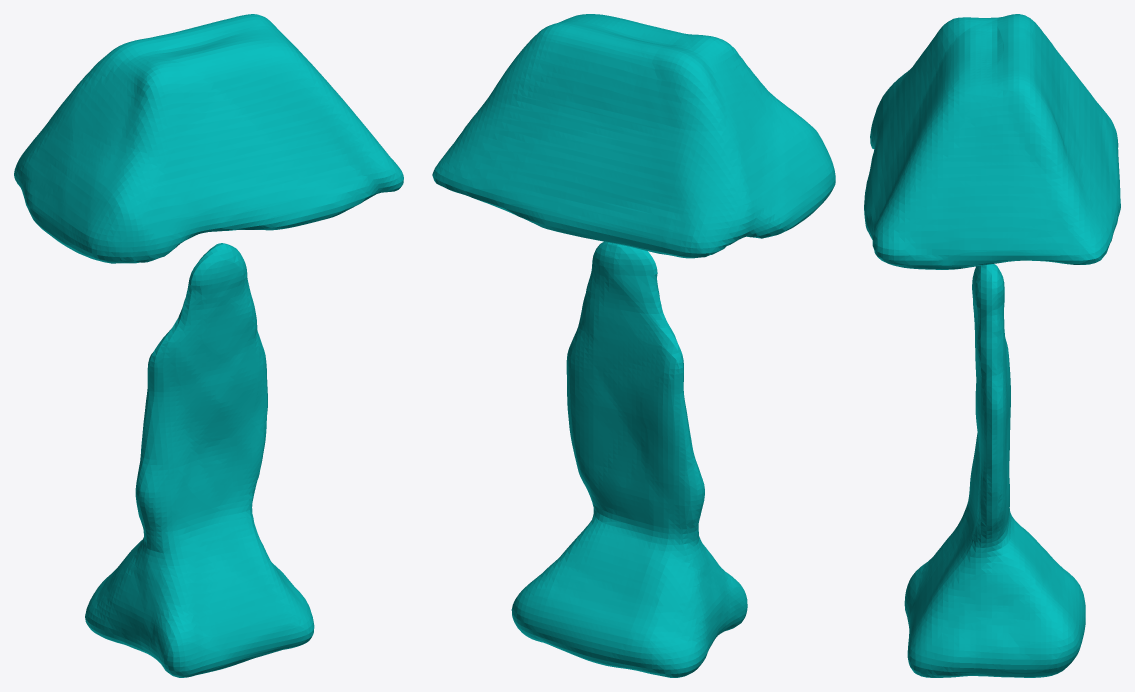
3 views of the same model, side by side, from view 1: azimuth 30°, elevation 25°; view 2: azimuth 150°, elevation 25°; view 3: azimuth 270°, elevation 25° (orthographic).
Size of the model in its own units: 0.5765 by 1.06 by 0.4089.
